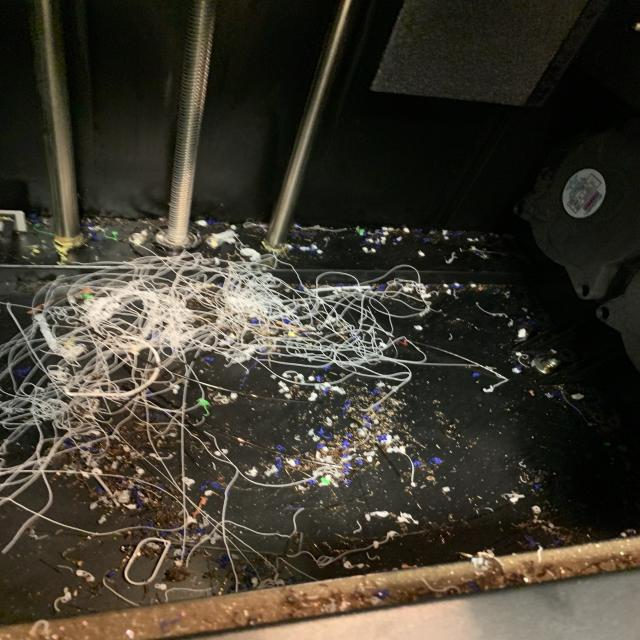spaghetti: (0, 232, 443, 591)
